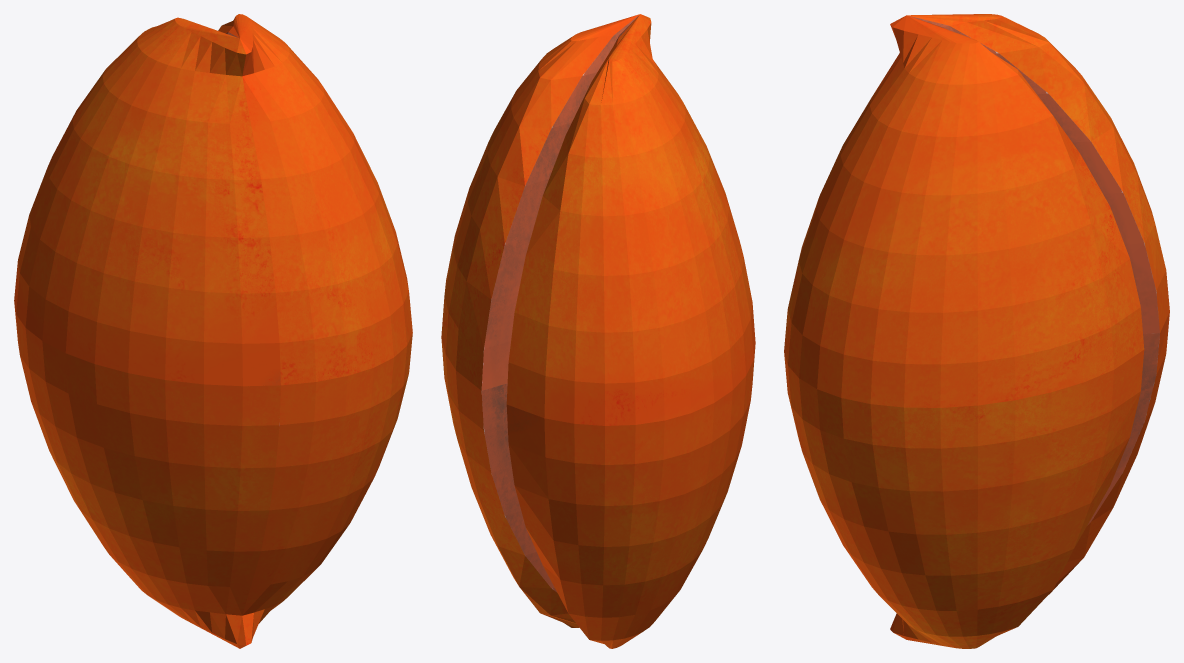
Rendered from pepaBullet.obj.
3 renders of one model, left to right at view 1: azimuth 30°, elevation 25°; view 2: azimuth 150°, elevation 25°; view 3: azimuth 270°, elevation 25°, orthographic. The views are drawn at different scales.
Visible parts, largest first — view 1: 球.001; view 2: 球.001; view 3: 球.001.
Boxes of the visible parts, bbox=[...] form: 球.001: bbox=[14, 14, 412, 648]; 球.001: bbox=[441, 14, 755, 648]; 球.001: bbox=[784, 14, 1169, 648].
Bounding box in the file's own units: 0.3418 × 0.6506 × 0.3643.
Materials: 1 (1 with a texture image).
